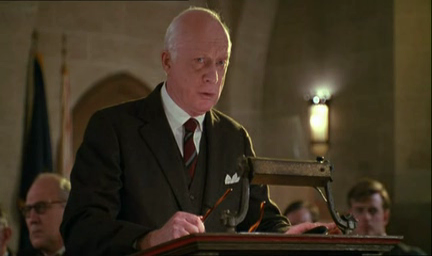face: (184, 46, 229, 111)
ms: (1, 1, 432, 256)
person: (59, 6, 343, 256)
